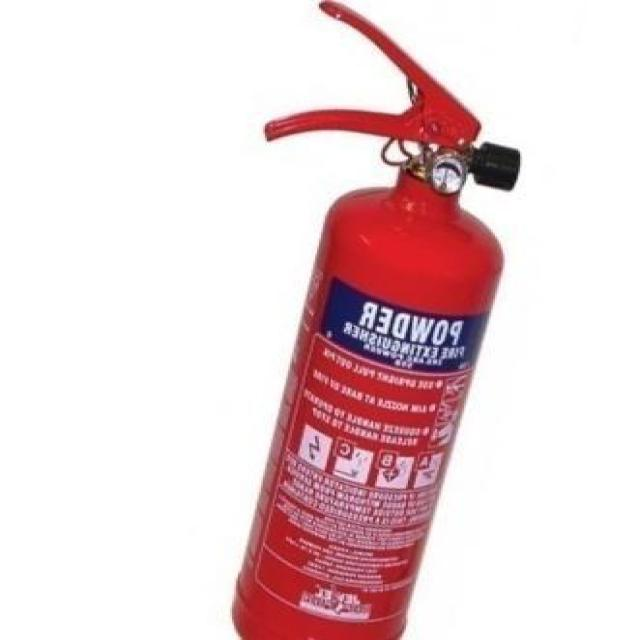fire_extinguisher: (218, 0, 532, 639)
